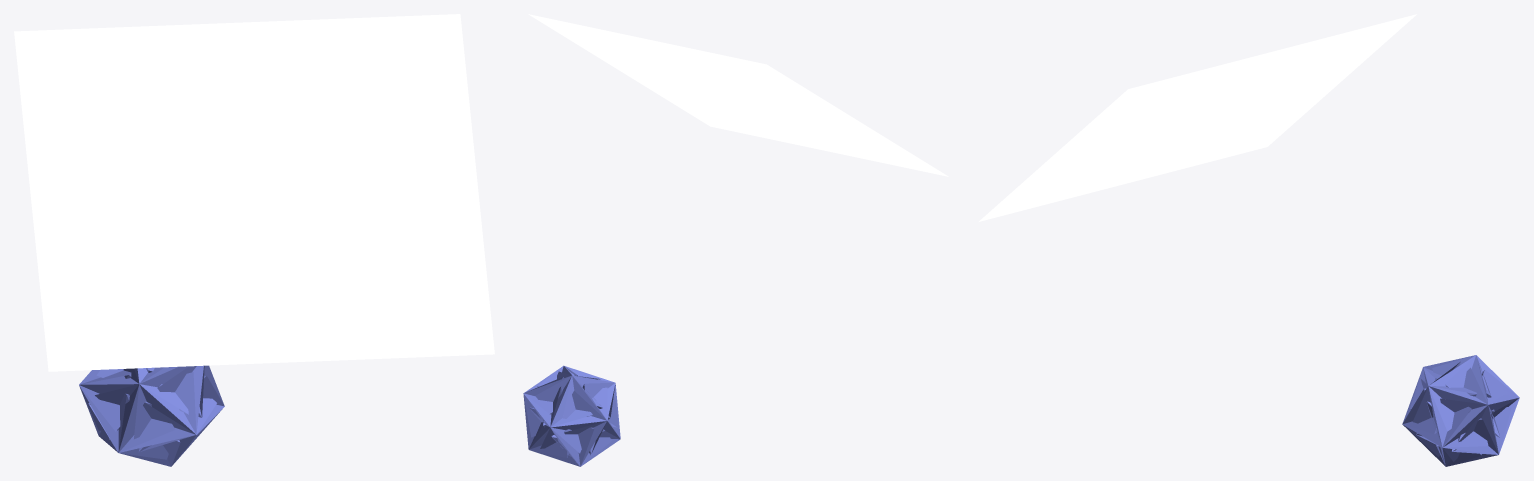
The model's file is paper2.glb.
3 views of the same model, side by side, from view 1: azimuth 30°, elevation 25°; view 2: azimuth 150°, elevation 25°; view 3: azimuth 270°, elevation 25° (orthographic). The views are drawn at different scales.
Visible parts, largest first — view 1: Reflector2, Icosphere; view 2: Reflector2, Icosphere; view 3: Reflector2, Icosphere.
Part boxes in pixels (x1,y1,x2,y2): Reflector2: (14, 14, 494, 371); Icosphere: (79, 365, 224, 466); Reflector2: (528, 14, 948, 176); Icosphere: (523, 365, 620, 466); Reflector2: (979, 14, 1416, 221); Icosphere: (1402, 355, 1519, 466).
Bounding box in the file's own units: 12.49 × 11.76 × 14.91.
